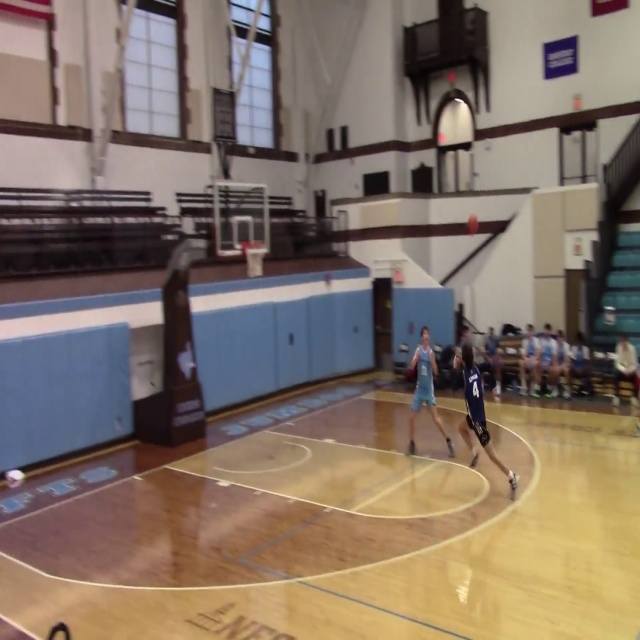Basketball: (6, 469, 25, 482), (467, 214, 478, 234), (404, 368, 416, 380)
